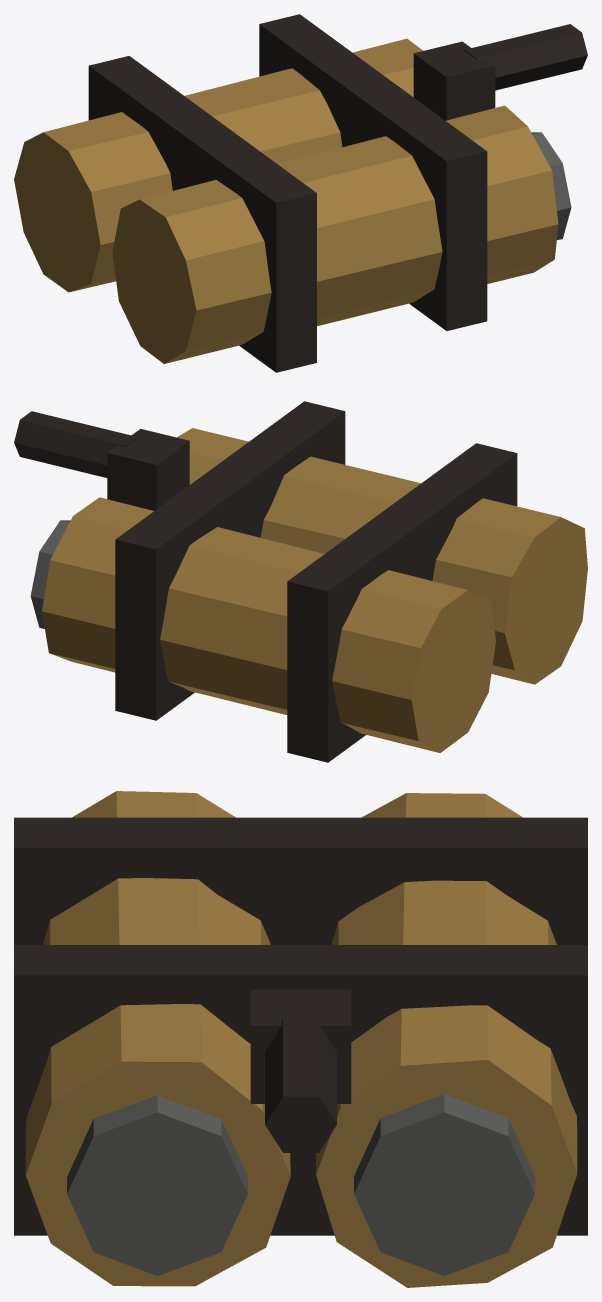
The model's file is wext_fuel_tanks.glb.
3 views of the same model, one above another, from view 1: azimuth 30°, elevation 25°; view 2: azimuth 150°, elevation 25°; view 3: azimuth 270°, elevation 25° (orthographic). The views are drawn at different scales.
Parts seen in each view (by area): view 1: wext_fuel_tanks; view 2: wext_fuel_tanks; view 3: wext_fuel_tanks.
Boxes of the visible parts, x1,y1,x2,y2 form: wext_fuel_tanks: (14,14,587,372); wext_fuel_tanks: (14,401,587,762); wext_fuel_tanks: (14,791,587,1287).
Bounding box in the file's own units: 0.5829 × 0.2117 × 0.4.
